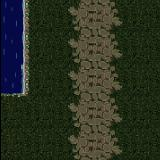Interaction: (15, 0, 42, 103), (0, 87, 15, 105)
Slow: (0, 0, 21, 91)
